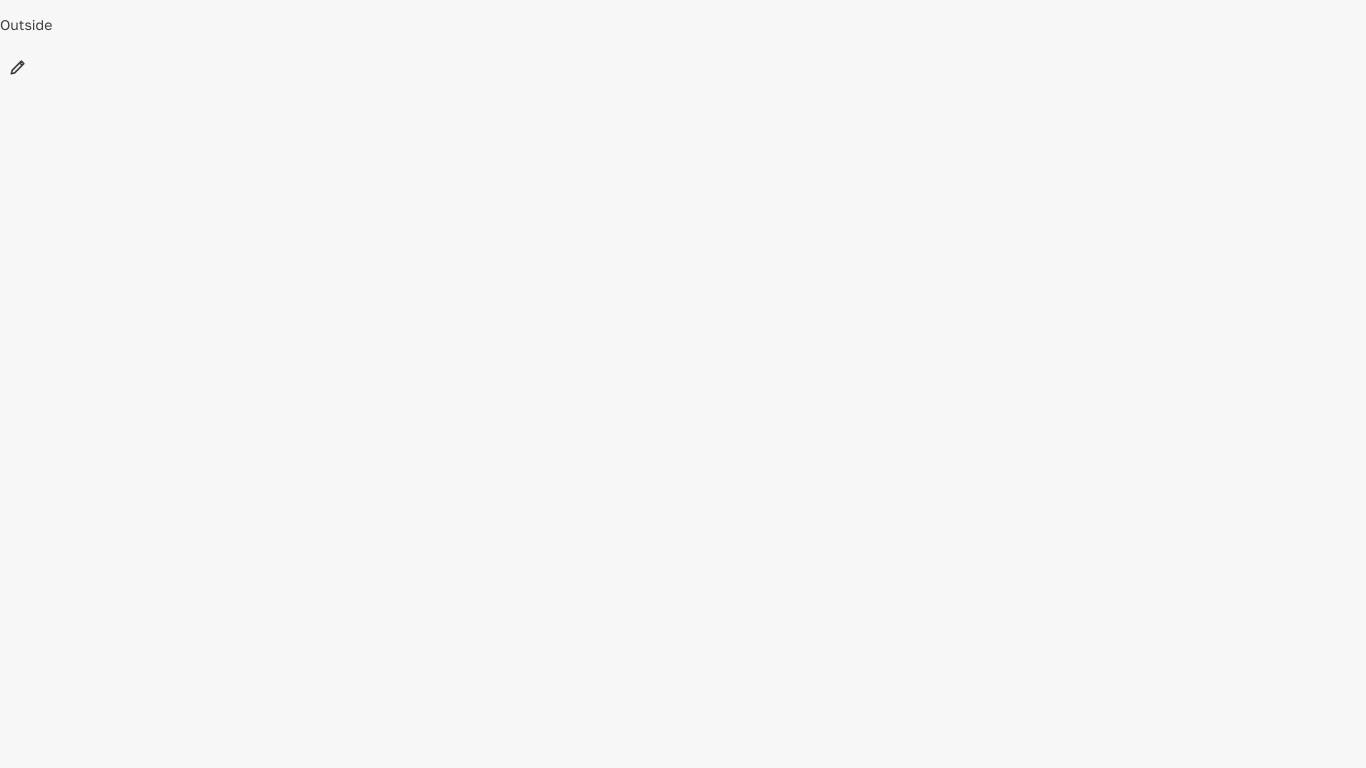
Test: PopoverMenu › runs an item and closes
Click the button named "Actions". click: (18, 67)
box: [0, 49, 36, 85]
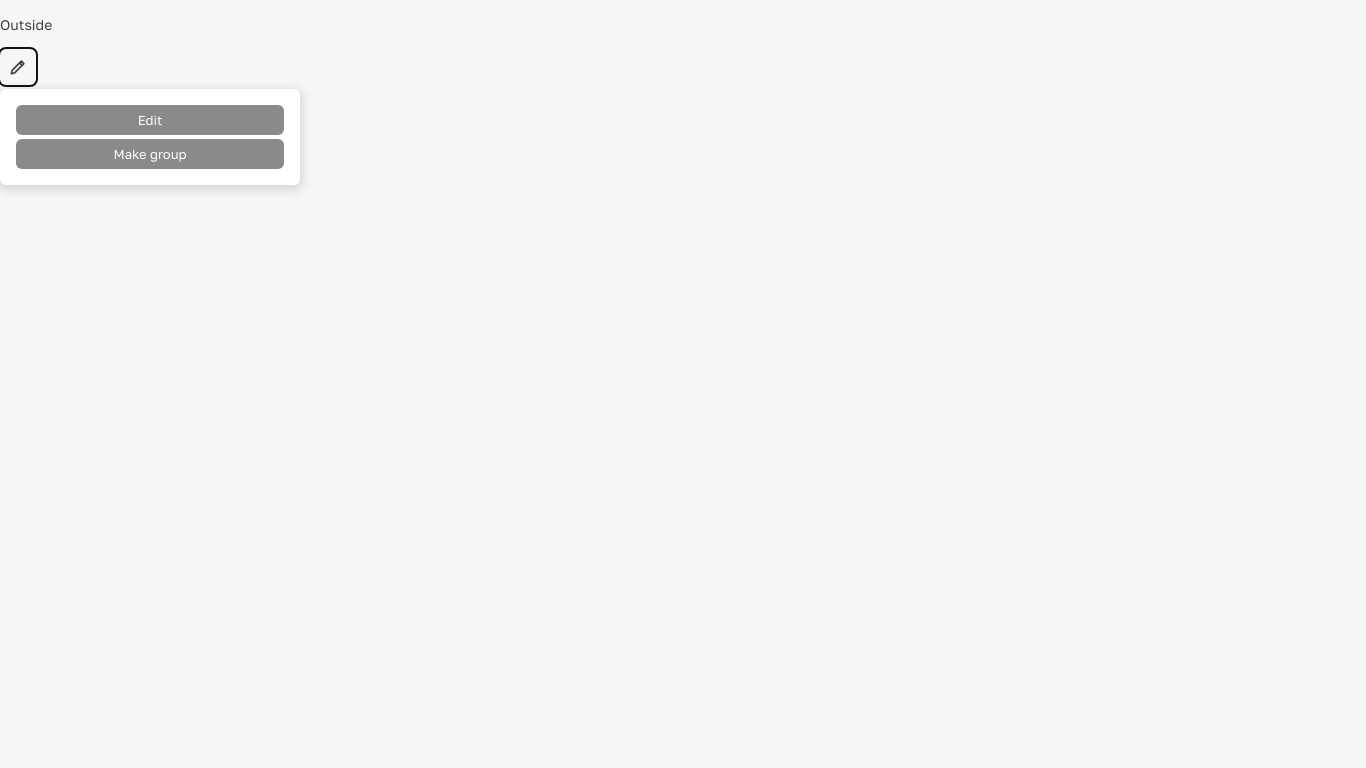
Click the button "Make group". click: (150, 154)
box: [16, 139, 284, 169]
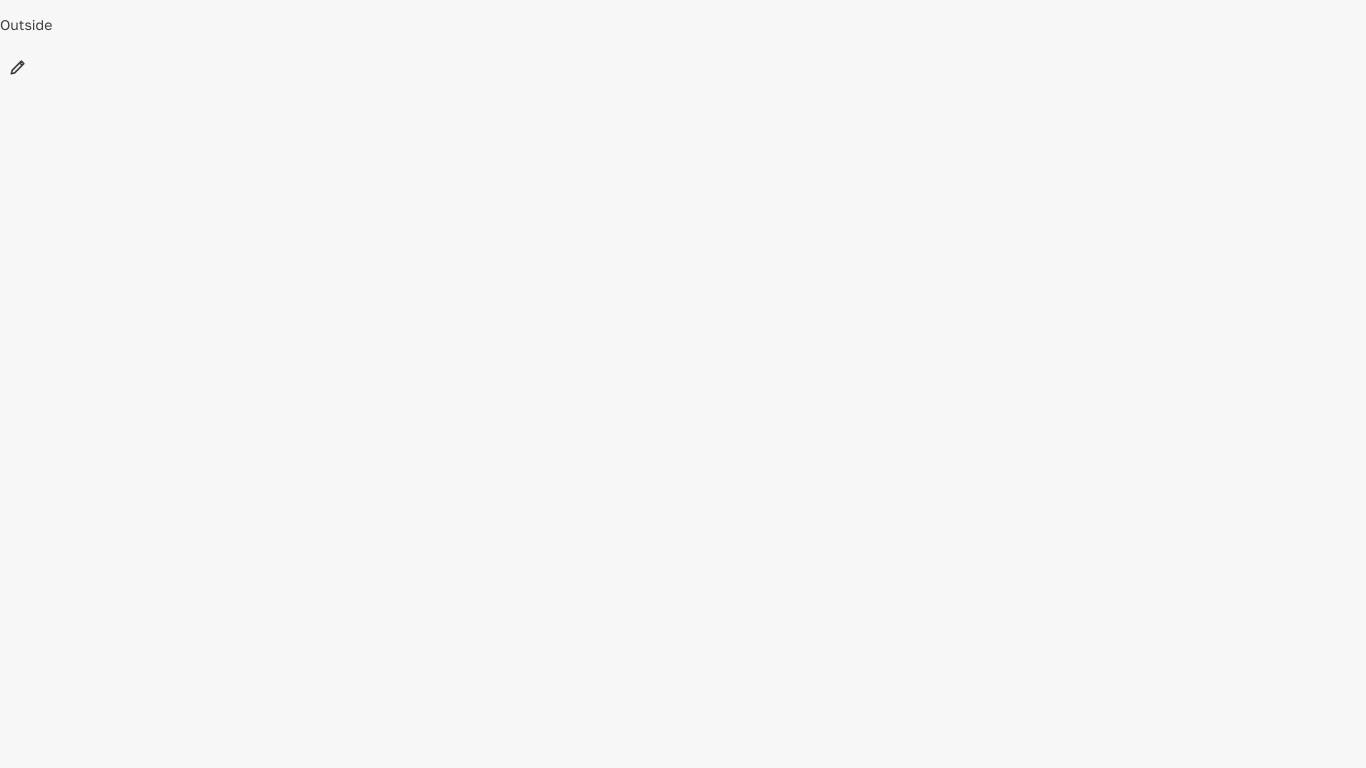
expect the dialog "Edit Make group" is gone: met
